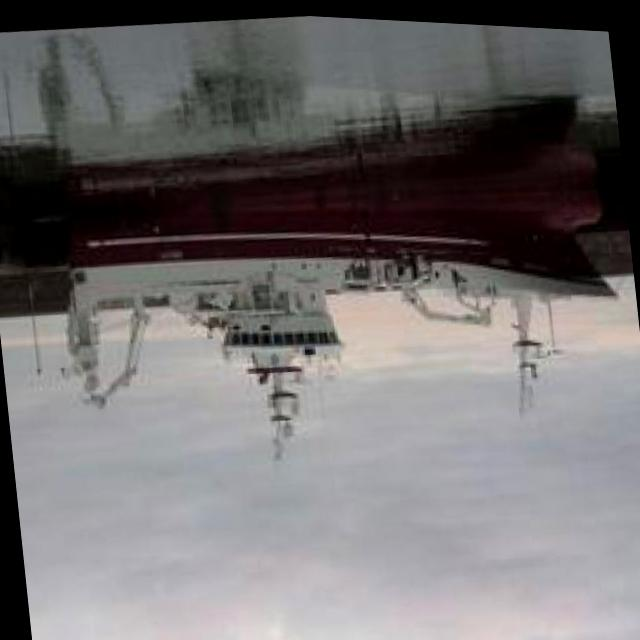ship2: (63, 208, 622, 456)
